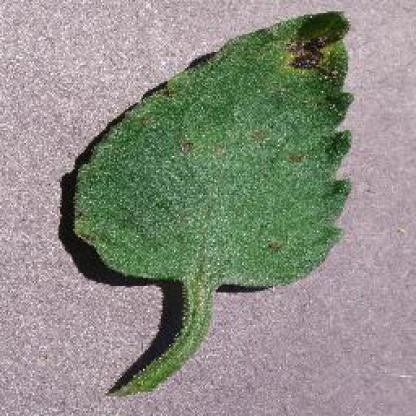bad leaf: (213, 13, 342, 92)
